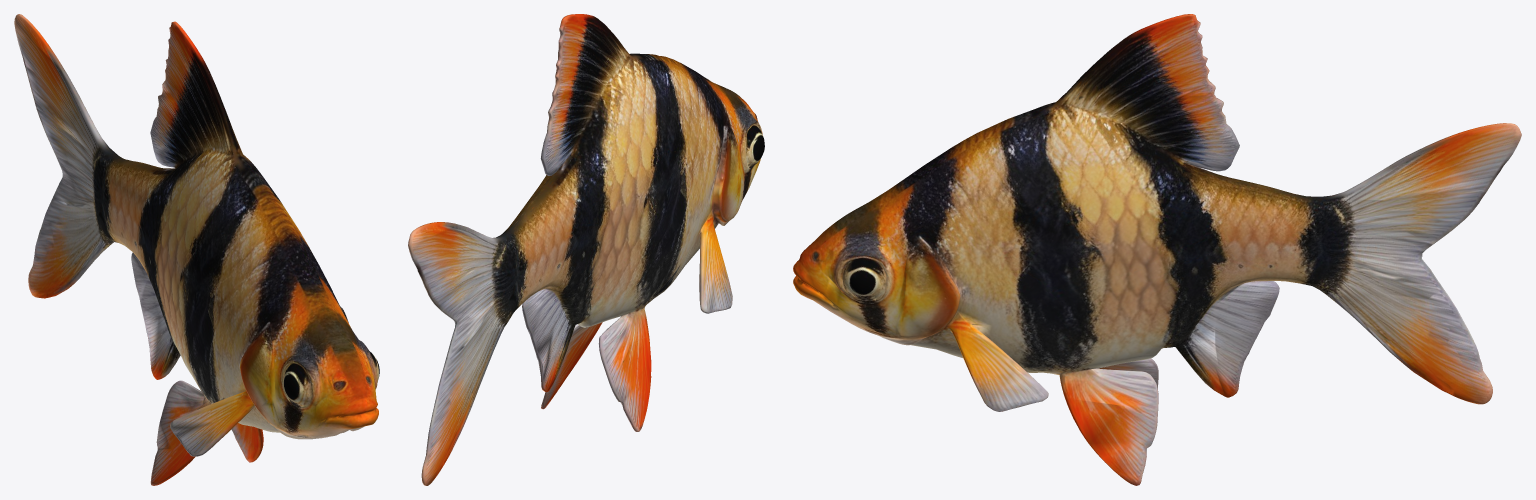
Rendered from barb.glb.
3 renders of one model, left to right at view 1: azimuth 30°, elevation 25°; view 2: azimuth 150°, elevation 25°; view 3: azimuth 270°, elevation 25°, orthographic. The views are drawn at different scales.
Parts seen in each view (by area): view 1: Body; view 2: Body; view 3: Body.
Boxes of the visible parts, box(x1,y1,x2,y2) form: Body: box(14, 14, 379, 485); Body: box(408, 14, 764, 485); Body: box(793, 14, 1521, 485).
Bounding box in the file's own units: 0.1204 × 0.3227 × 0.4768.
1 material, 1 textured.
